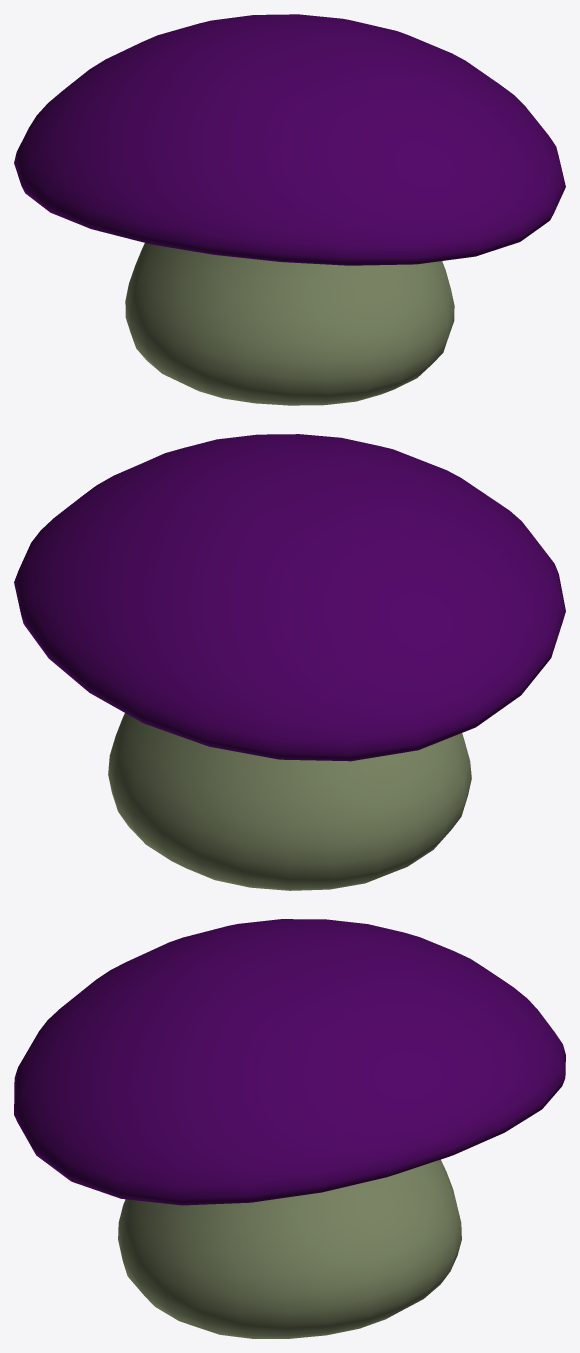
File: PoisonedShroom.fbx
The picture shows the model from 3 angles, top to bottom: view 1: azimuth 30°, elevation 25°; view 2: azimuth 150°, elevation 25°; view 3: azimuth 270°, elevation 25°; orthographic projection. The views are drawn at different scales.
Visible parts, largest first — view 1: Cylinder; view 2: Cylinder; view 3: Cylinder.
Part boxes in pixels (x1=…): Cylinder: x1=14, y1=14, x2=565, y2=405; Cylinder: x1=14, y1=434, x2=565, y2=890; Cylinder: x1=14, y1=919, x2=565, y2=1338.
Size of the model in its own units: 331 by 227 by 333.
